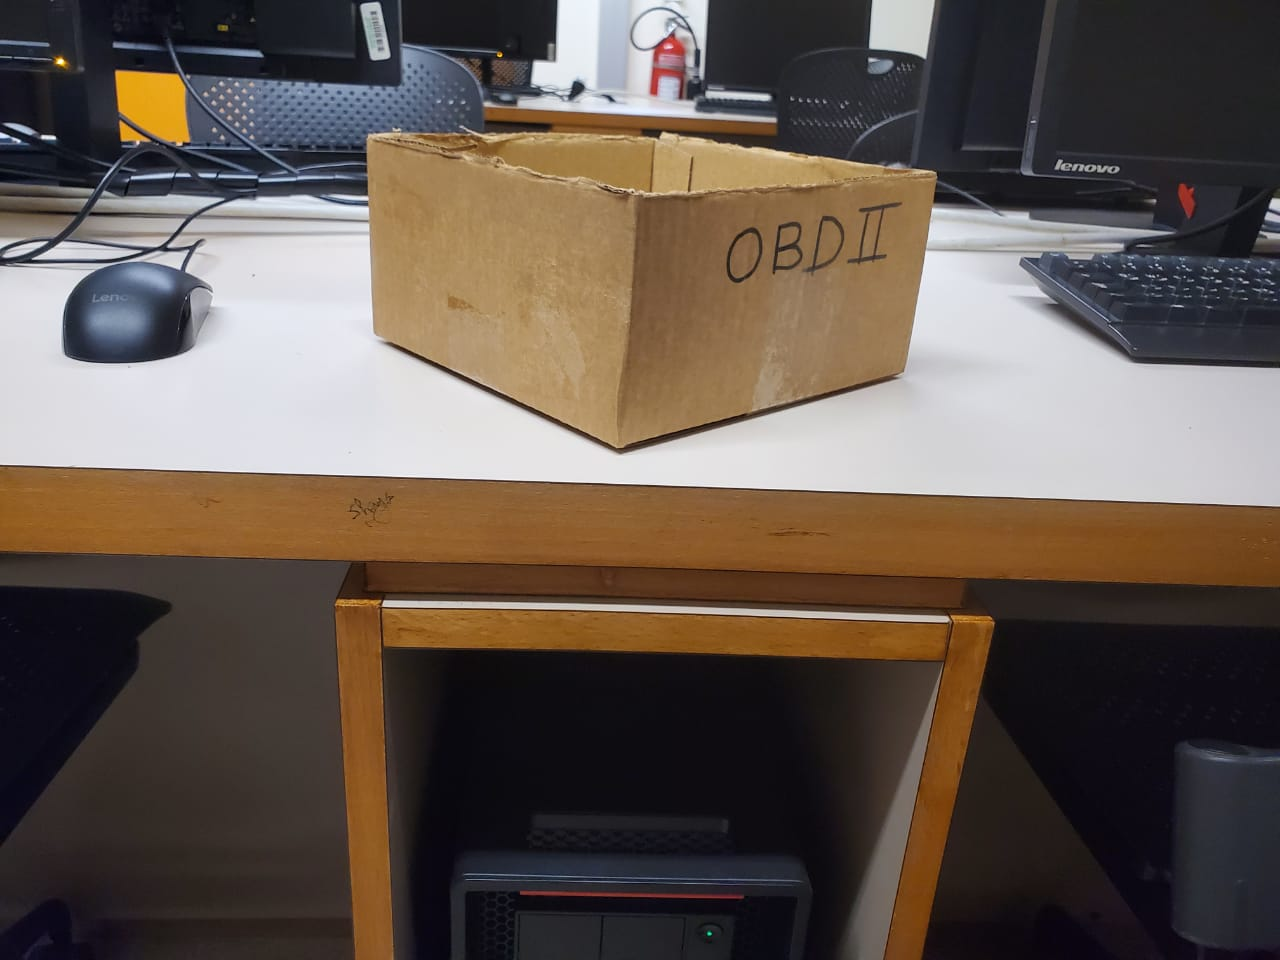CBox: (358, 121, 945, 455)
